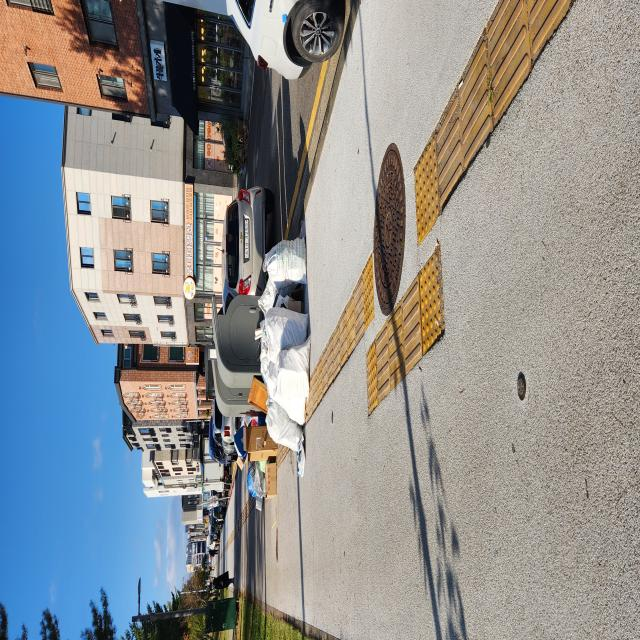CleanNet: (118, 457, 166, 573), (99, 453, 130, 560)
General Waste: (65, 526, 123, 598)
PP bag: (85, 565, 112, 640), (128, 573, 155, 640), (163, 567, 187, 640), (110, 590, 142, 640)
